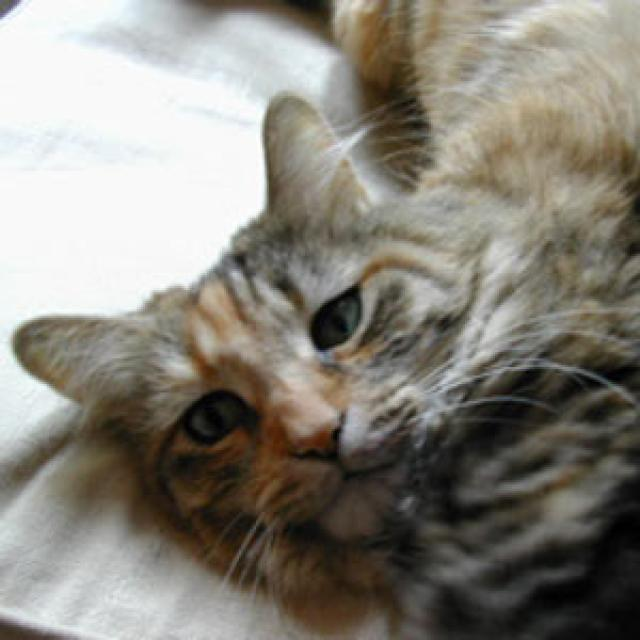Maine_Coon: (11, 83, 490, 617)
